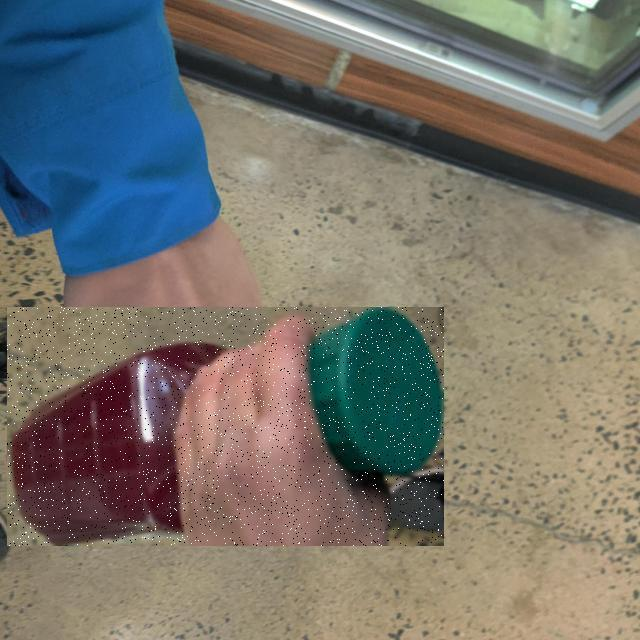Juice: (7, 307, 444, 546)
